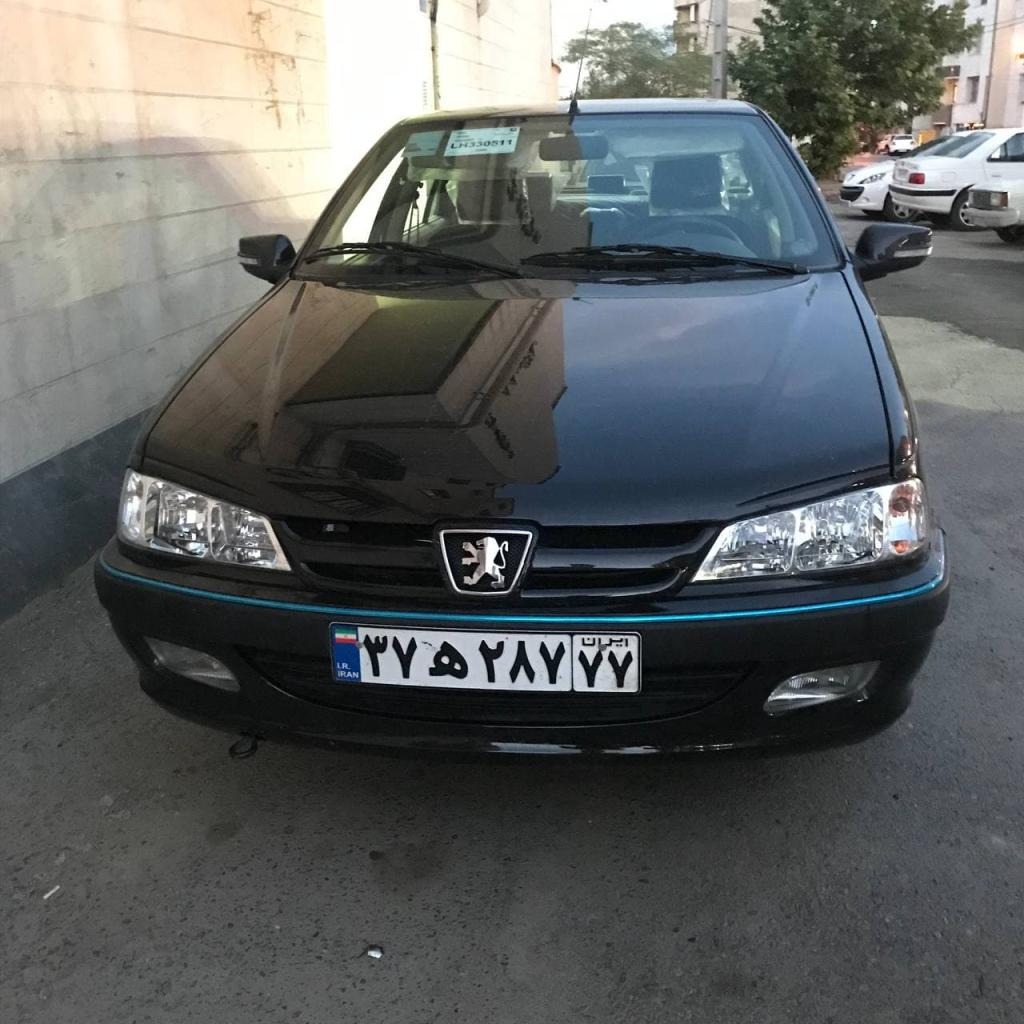Plates: (329, 623, 641, 692)
